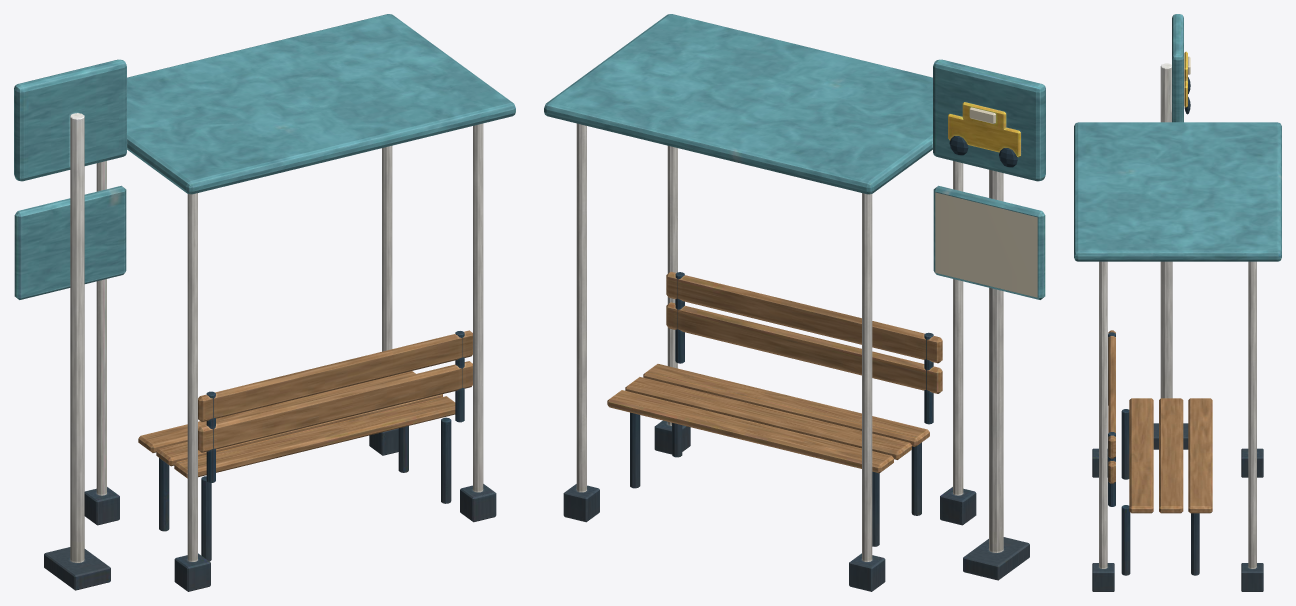
Rendered from taxi_stop.glb.
The picture shows the model from 3 angles, left to right: view 1: azimuth 30°, elevation 25°; view 2: azimuth 150°, elevation 25°; view 3: azimuth 270°, elevation 25°; orthographic projection. The views are drawn at different scales.
Bounding box in the file's own units: 2.4 × 2.6 × 1.2.
3 materials, 1 textured.
